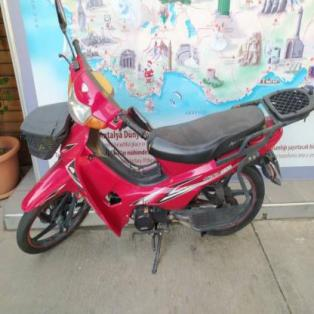Motocicleta: (14, 0, 309, 279)
